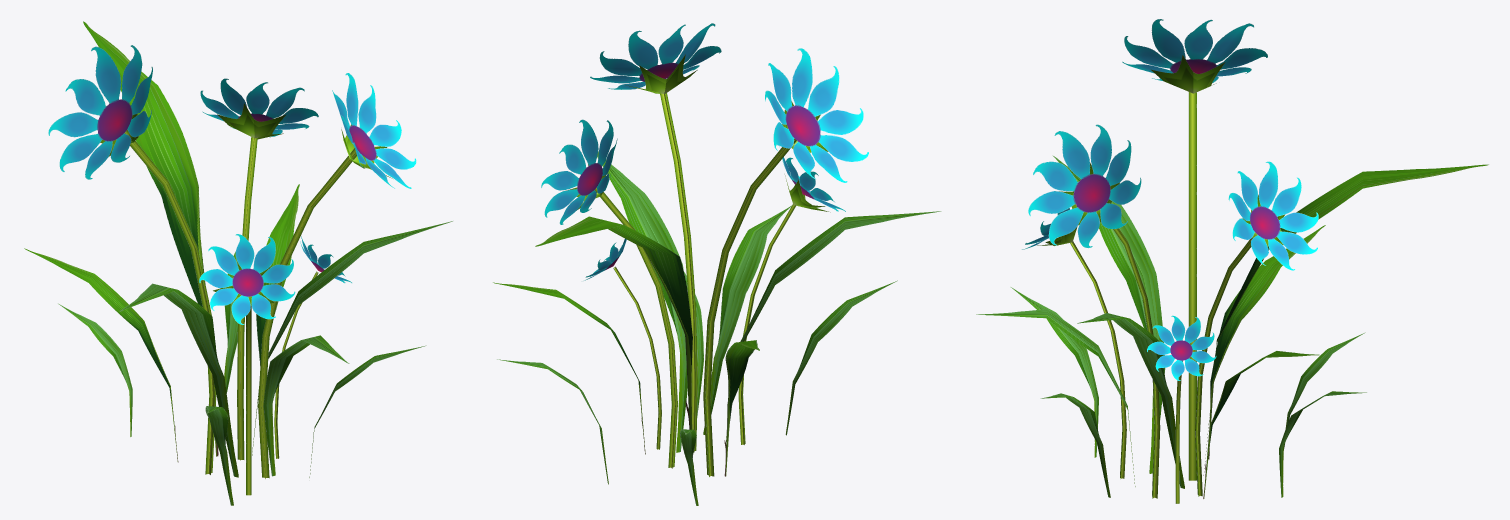
File: Flower_03.FBX
3 views of the same model, side by side, from view 1: azimuth 30°, elevation 25°; view 2: azimuth 150°, elevation 25°; view 3: azimuth 270°, elevation 25° (orthographic). The views are drawn at different scales.
Parts seen in each view (by area): view 1: Flower_03; view 2: Flower_03; view 3: Flower_03.
Part boxes in pixels (x1,y1,x2,y2): Flower_03: (24,21,452,505); Flower_03: (493,23,941,505); Flower_03: (976,19,1488,503).
Size of the model in its own units: 45.75 by 52.53 by 56.98.
